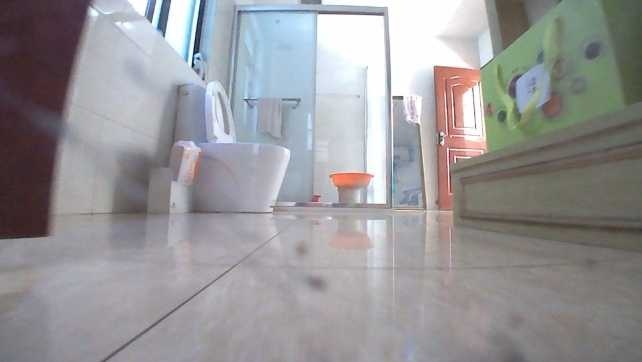toilet: (171, 79, 293, 216)
